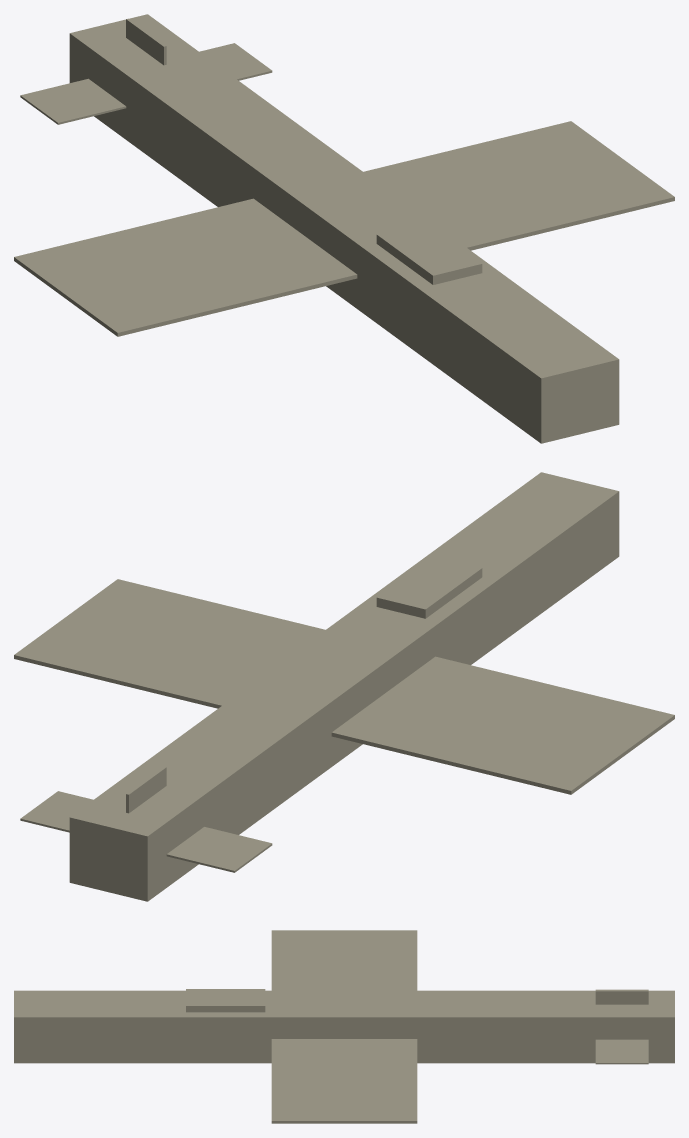
The model's file is mig29.glb.
3 renders of one model, top to bottom at view 1: azimuth 30°, elevation 25°; view 2: azimuth 150°, elevation 25°; view 3: azimuth 270°, elevation 25°, orthographic. The views are drawn at different scales.
Visible parts, largest first — view 1: Fuselage, Wing_L, Wing_R, Cockpit, Elevator_L, Elevator_R, Rudder; view 2: Fuselage, Wing_L, Wing_R, Cockpit, Elevator_L, Elevator_R, Rudder; view 3: Fuselage, Wing_R, Wing_L, Cockpit, Elevator_R, Rudder.
Part boxes in pixels (<box>): Fuselage: <box>69,14,619,443</box>; Wing_L: <box>14,198,357,336</box>; Wing_R: <box>363,121,674,250</box>; Cockpit: <box>376,222,482,284</box>; Elevator_L: <box>20,78,126,124</box>; Elevator_R: <box>199,43,272,80</box>; Rudder: <box>126,18,166,65</box>; Fuselage: <box>69,472,619,901</box>; Wing_L: <box>331,656,674,794</box>; Wing_R: <box>14,579,325,708</box>; Cockpit: <box>376,556,482,618</box>; Elevator_L: <box>166,827,272,872</box>; Elevator_R: <box>20,791,93,832</box>; Rudder: <box>126,766,166,813</box>; Fuselage: <box>14,990,674,1063</box>; Wing_R: <box>271,1039,417,1123</box>; Wing_L: <box>271,930,417,990</box>; Cockpit: <box>186,989,265,1012</box>; Elevator_R: <box>595,1039,648,1064</box>; Rudder: <box>595,990,648,1004</box>.
Size of the model in its own units: 11.81 by 1.7 by 17.32.
